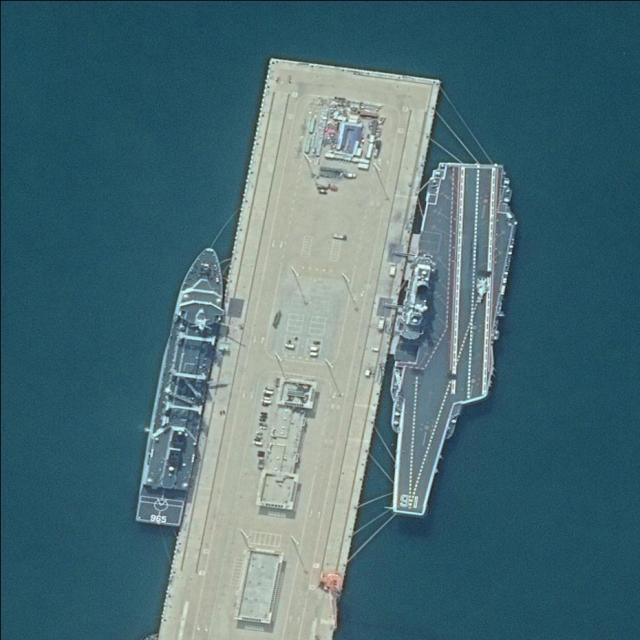Aircraft Carrier: (362, 151, 530, 526)
Other Warship: (133, 240, 235, 531)
